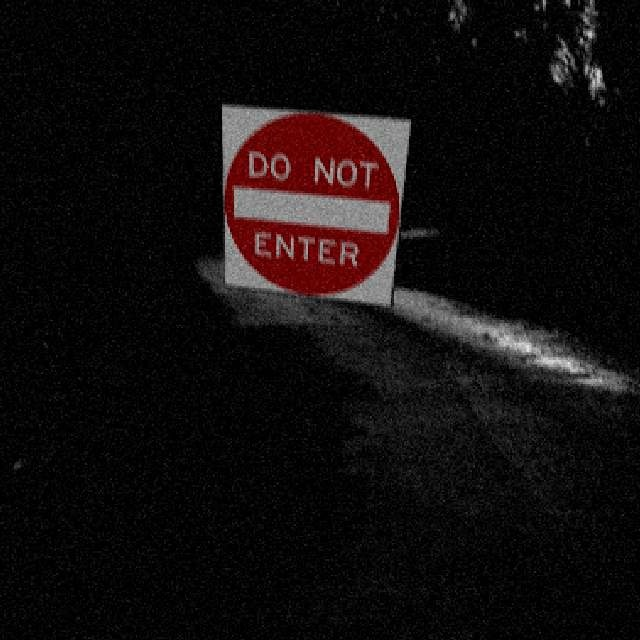DO_NOT_ENTER: (219, 101, 412, 306)
